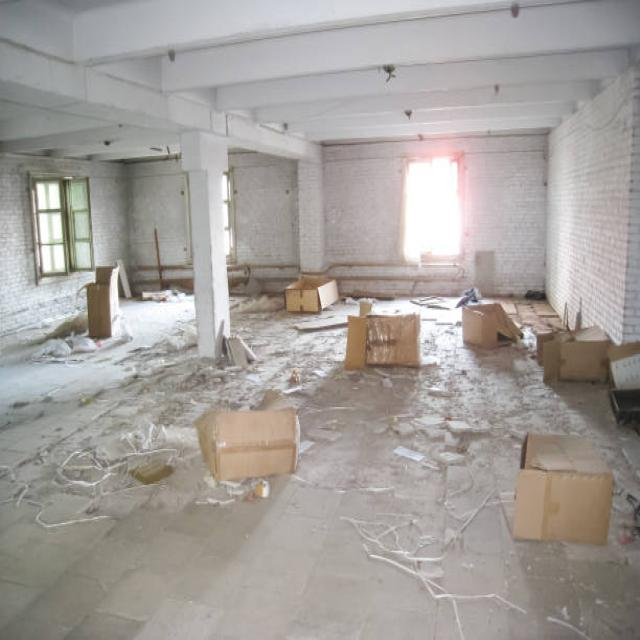floor: (0, 278, 640, 640)
wall: (0, 39, 322, 361), (322, 132, 551, 298), (546, 65, 633, 344), (0, 153, 129, 335), (226, 153, 300, 293), (127, 156, 193, 296), (179, 130, 215, 361), (401, 155, 462, 263), (622, 63, 640, 344), (297, 159, 321, 276), (317, 144, 326, 277)
